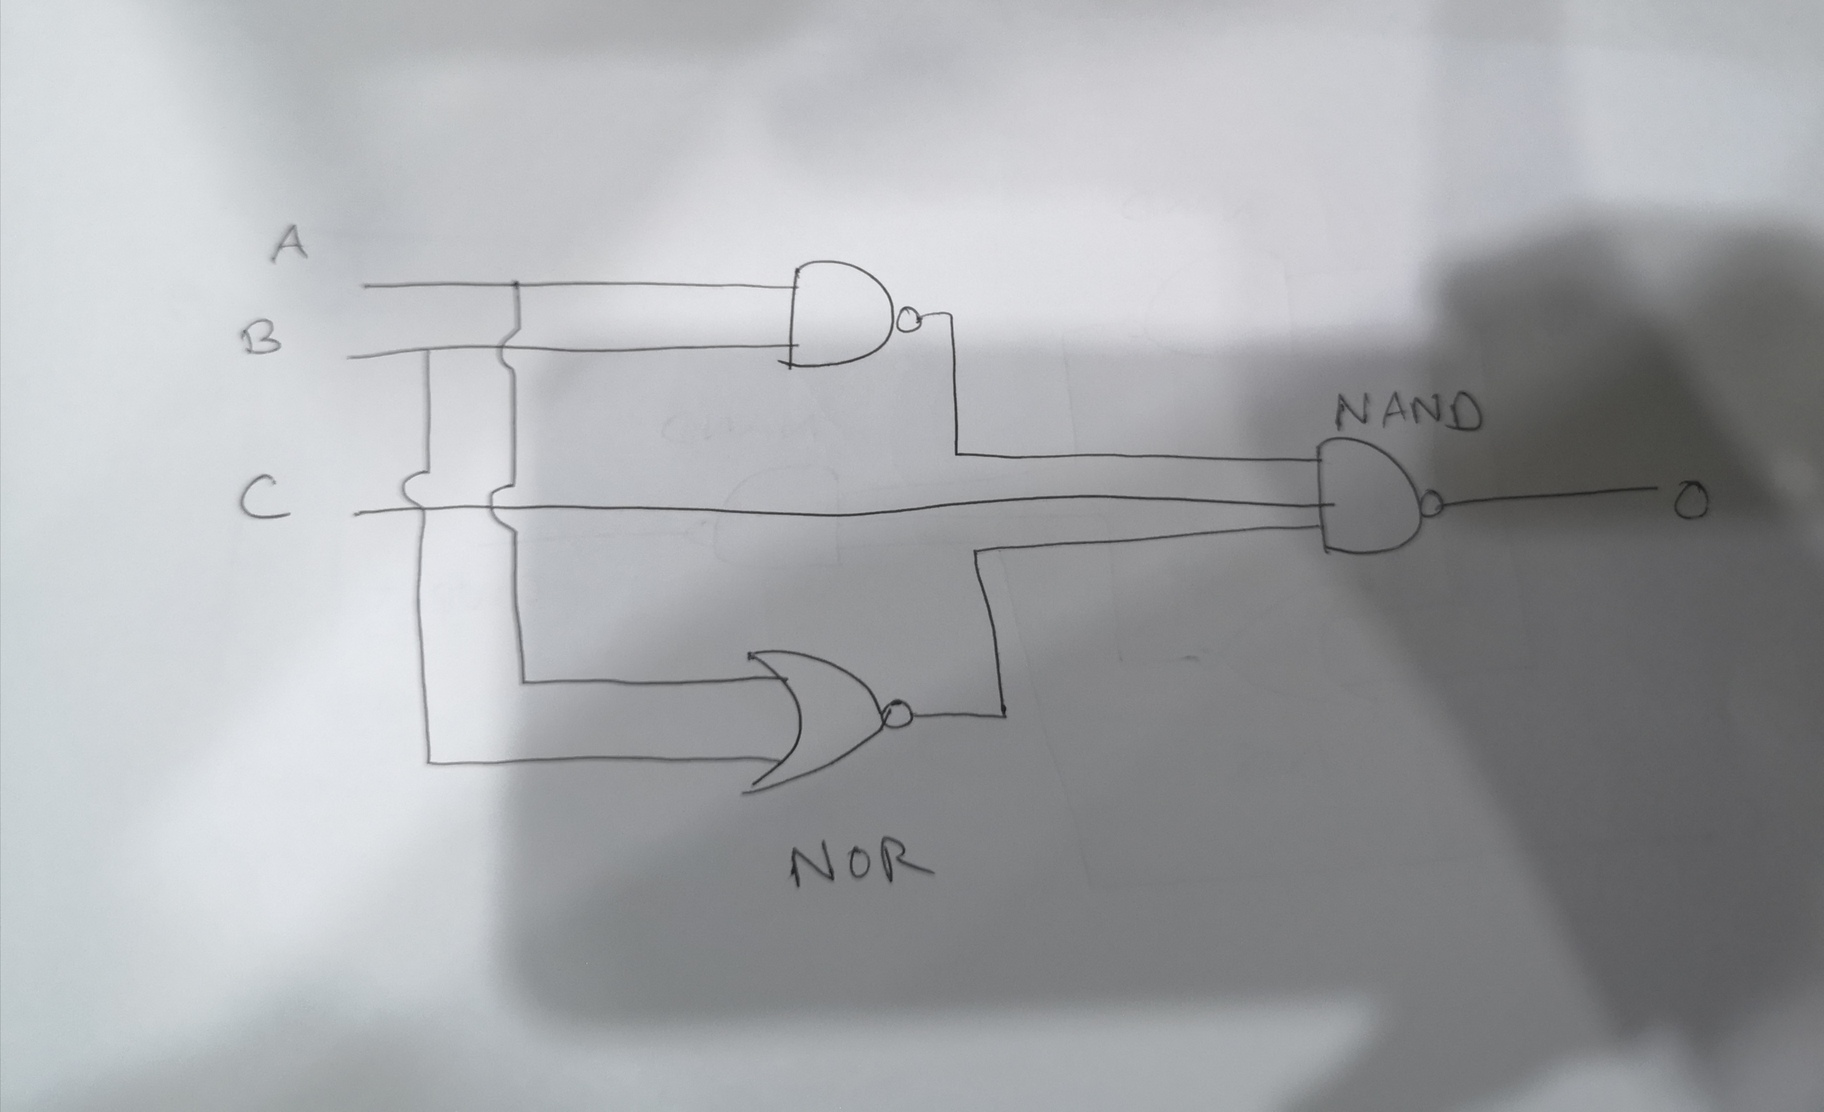crossover: (478, 473, 522, 539), (396, 464, 439, 523), (489, 322, 526, 371)
junction: (984, 694, 1019, 732), (962, 536, 991, 564), (513, 671, 533, 693), (945, 444, 965, 464), (416, 341, 440, 357), (506, 275, 525, 294), (421, 753, 436, 771), (942, 305, 958, 323)
nand: (773, 250, 928, 378), (1309, 434, 1451, 563)
nor: (731, 641, 919, 803)
terminal: (1642, 478, 1666, 499), (347, 504, 370, 523), (354, 279, 375, 296), (339, 350, 360, 366)
text: (788, 833, 938, 896), (1329, 383, 1488, 438), (235, 467, 298, 527), (236, 313, 284, 358), (264, 217, 309, 266), (1672, 477, 1715, 523)
